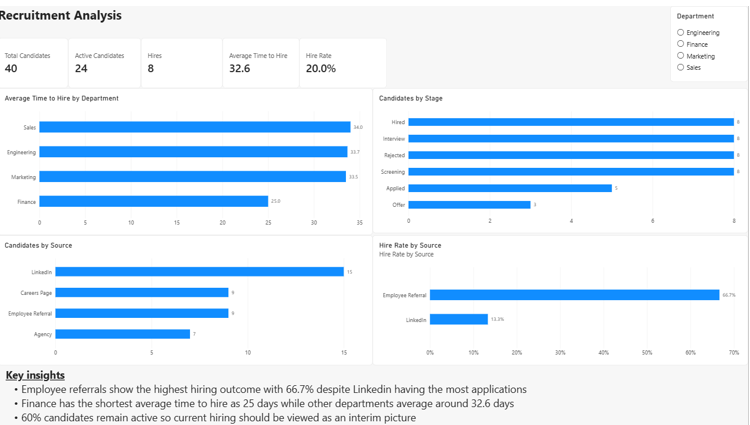

This screenshot's page, from the dashboard's own definition file:
{"tool":"powerbi","page":{"name":"Page 1","canvas":[1920,1080],"ordinal":0},"visuals":[{"type":"cardVisual","fields":{"Data":["Recruitment.Total Candidates"]},"box":[0,81.4,179.2,128.5],"z":0},{"type":"cardVisual","fields":{"Data":["Recruitment.Active Candidates"]},"box":[179.2,81.4,186.4,128.5],"z":1000},{"type":"cardVisual","fields":{"Data":["Recruitment.Hires"]},"box":[365.5,81.6,209.9,128.5],"z":2000},{"type":"cardVisual","fields":{"Data":["Recruitment.Average Time to Hire"]},"box":[574.9,81.6,197.3,128.5],"z":3000},{"type":"clusteredBarChart","title":"Candidates by Stage","fields":{"Category":["Recruitment.Stage"],"Y":["Recruitment.Total Candidates"]},"box":[959.1,209.9,960.9,371],"z":5000},{"type":"clusteredBarChart","title":"Candidates by Source","fields":{"Category":["Recruitment.Source"],"Y":["Recruitment.Total Candidates"]},"box":[0,586.3,959.1,333],"z":6000},{"type":"cardVisual","fields":{"Data":["Recruitment.Hire Rate"]},"box":[771,81.6,224.4,128.5],"z":7000},{"type":"clusteredBarChart","title":"Hire Rate by Source","fields":{"Category":["Recruitment.Source"],"Y":["Recruitment.Hire Rate"]},"box":[959.1,586.3,960.9,333],"z":8000},{"type":"clusteredBarChart","fields":{"Category":["Recruitment.Department"],"Y":["Recruitment.Average Time to Hire"]},"box":[0,209.9,959.1,376.4],"z":9000},{"type":"listSlicer","fields":{"Values":["Recruitment.Department"]},"box":[1721,0,199.1,193.6],"z":10000},{"type":"textbox","box":[19.9,924.7,1900.1,155.6],"z":12000},{"type":"textbox","box":[0,0,448.2,54.5],"z":13000}]}

Visuals, with their boxes in screenshot pixels (x1, y1, x2, y2), scaled from the page's 1920x1080 canvas onto the 750x425 screenshot:
cardVisual - Recruitment.Total Candidates: {"x1": 0, "y1": 32, "x2": 70, "y2": 83}
cardVisual - Recruitment.Active Candidates: {"x1": 70, "y1": 32, "x2": 143, "y2": 83}
cardVisual - Recruitment.Hires: {"x1": 143, "y1": 32, "x2": 225, "y2": 83}
cardVisual - Recruitment.Average Time to Hire: {"x1": 225, "y1": 32, "x2": 302, "y2": 83}
"Candidates by Stage" clusteredBarChart: {"x1": 375, "y1": 83, "x2": 749, "y2": 229}
"Candidates by Source" clusteredBarChart: {"x1": 0, "y1": 231, "x2": 375, "y2": 362}
cardVisual - Recruitment.Hire Rate: {"x1": 301, "y1": 32, "x2": 389, "y2": 83}
"Hire Rate by Source" clusteredBarChart: {"x1": 375, "y1": 231, "x2": 749, "y2": 362}
clusteredBarChart - Recruitment.Department x Recruitment.Average Time to Hire: {"x1": 0, "y1": 83, "x2": 375, "y2": 231}
listSlicer - Recruitment.Department: {"x1": 672, "y1": 0, "x2": 749, "y2": 76}
textbox: {"x1": 8, "y1": 364, "x2": 749, "y2": 424}
textbox: {"x1": 0, "y1": 0, "x2": 175, "y2": 21}
